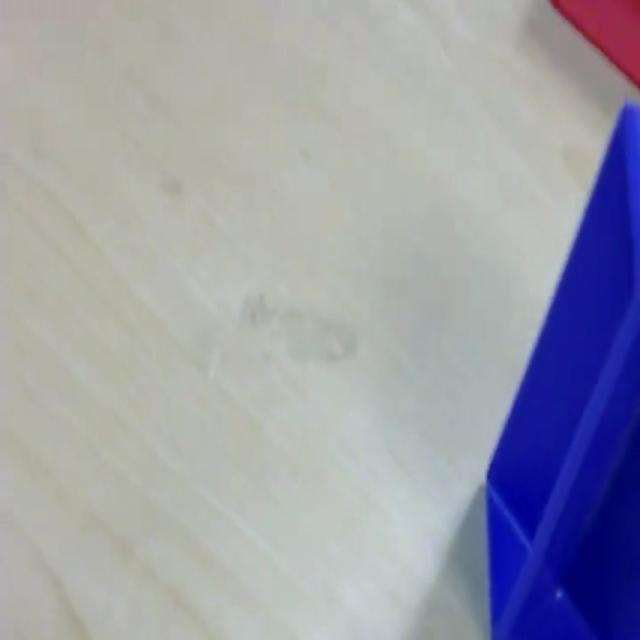blue_block: (484, 99, 638, 636)
